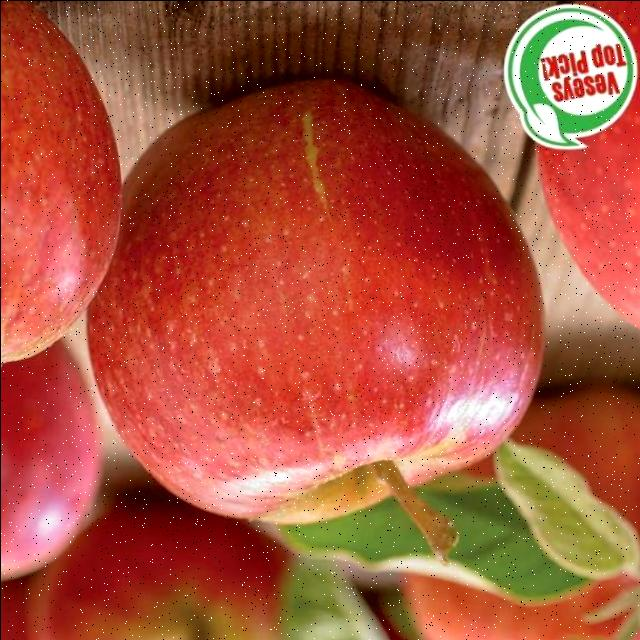HEALTHY: (86, 49, 552, 552)
